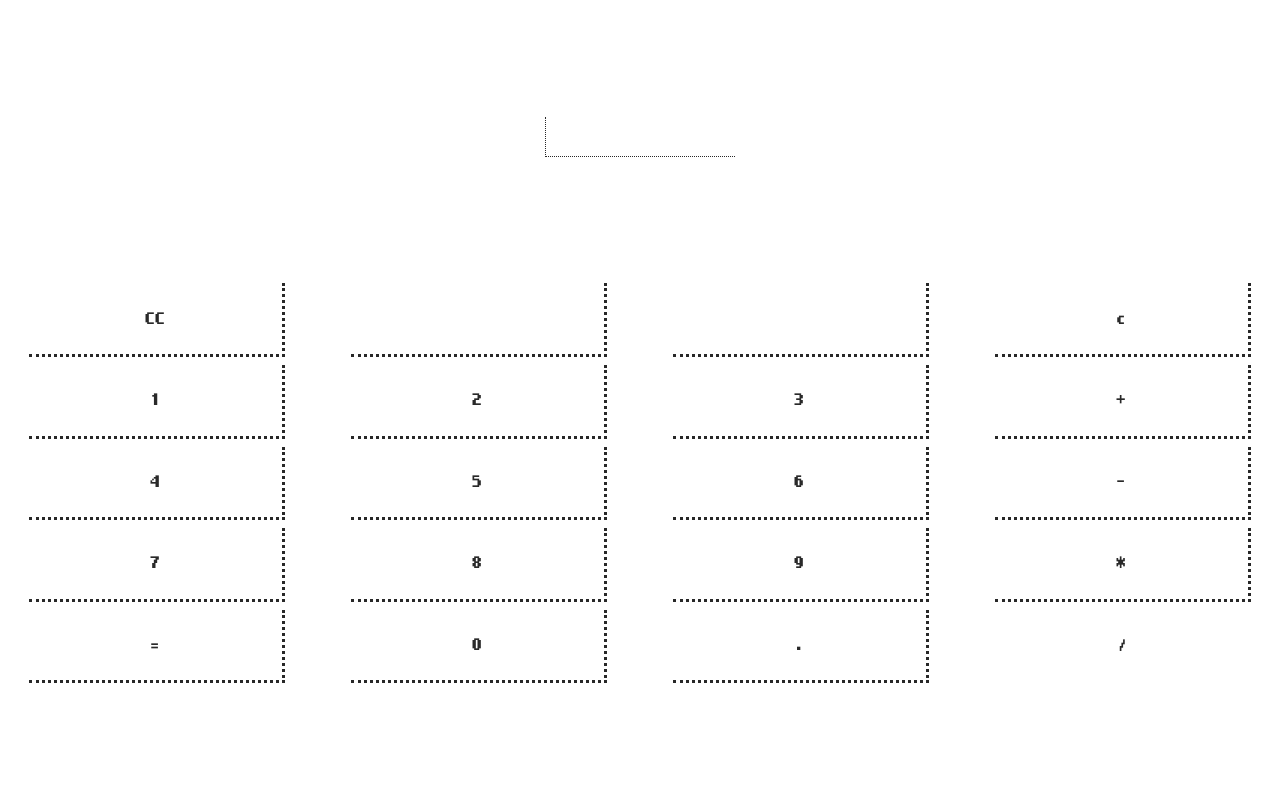
Scenario: Calculator › evaluates the expression when = is clicked
Click the button "1": (157,402) [29, 365, 285, 438]
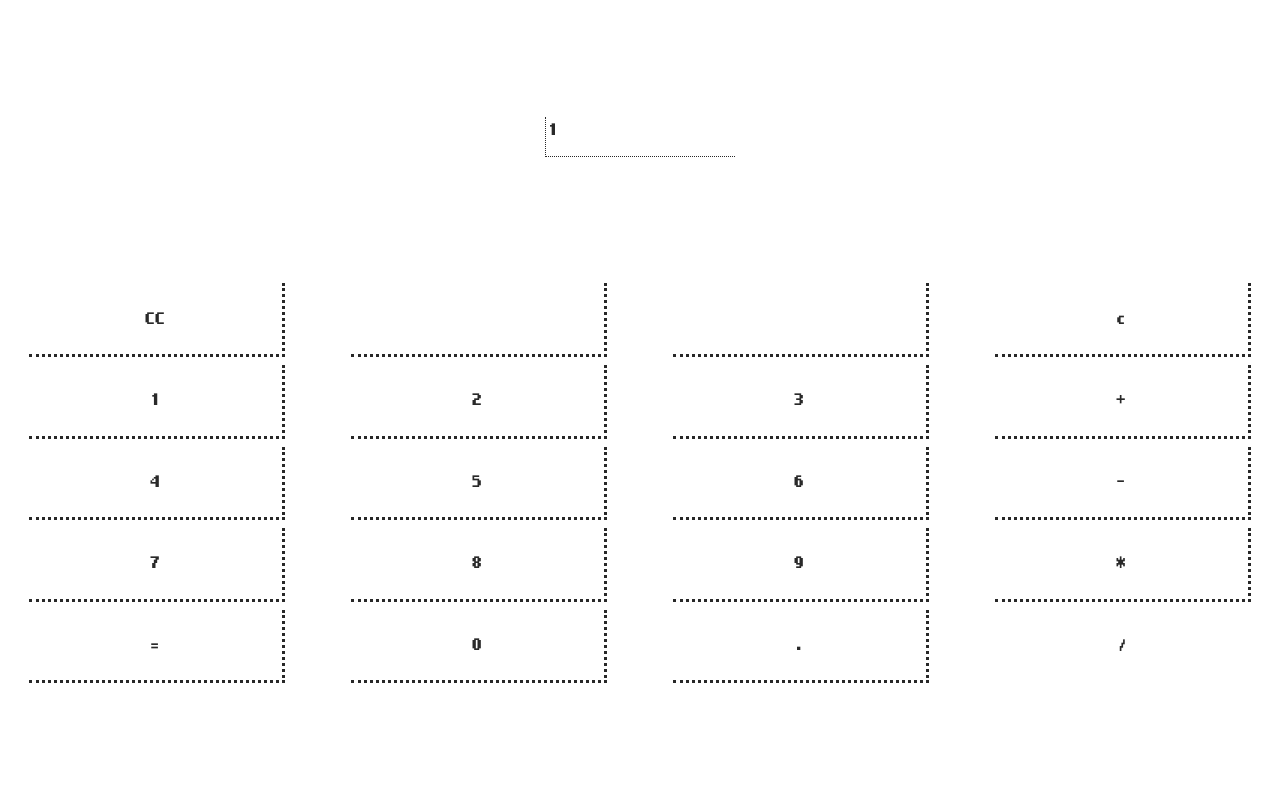
Click the button "+": (1123,402) [995, 365, 1251, 438]
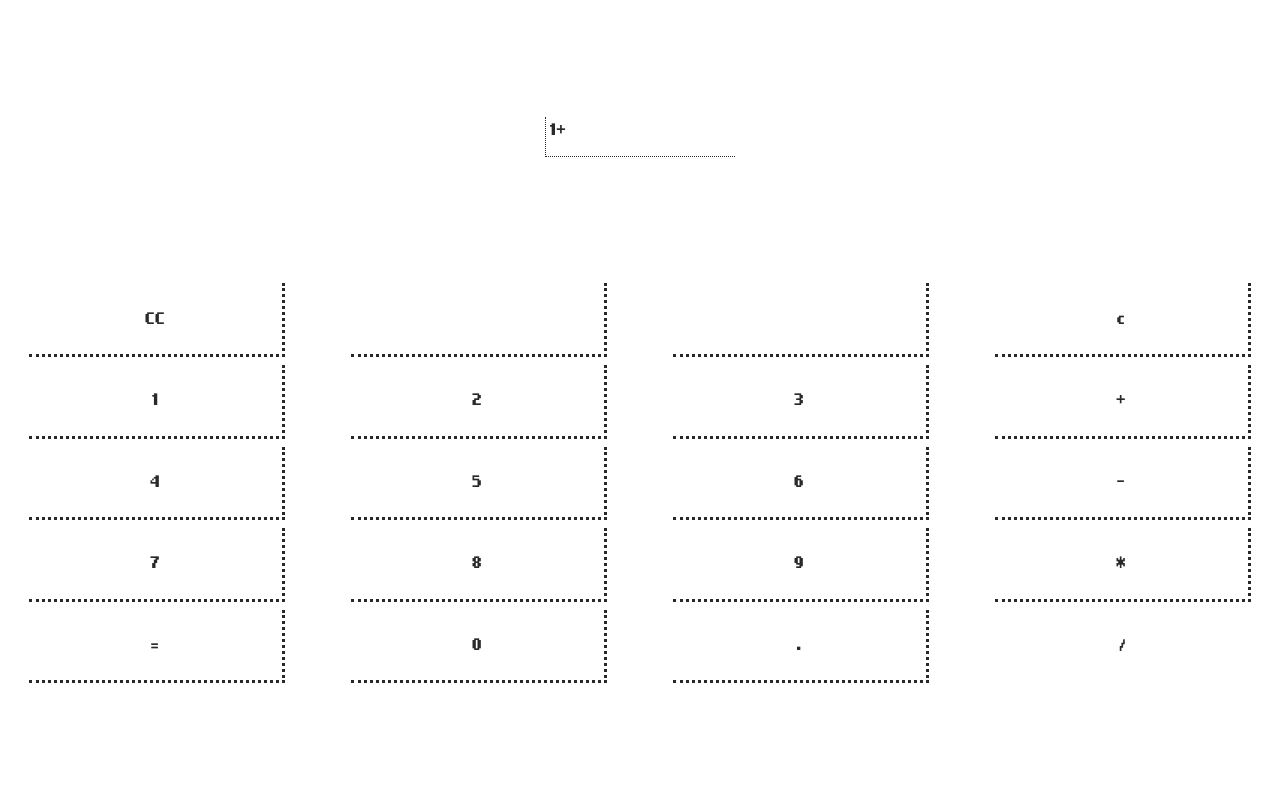
Click the button "2": (479,402) [351, 365, 607, 438]
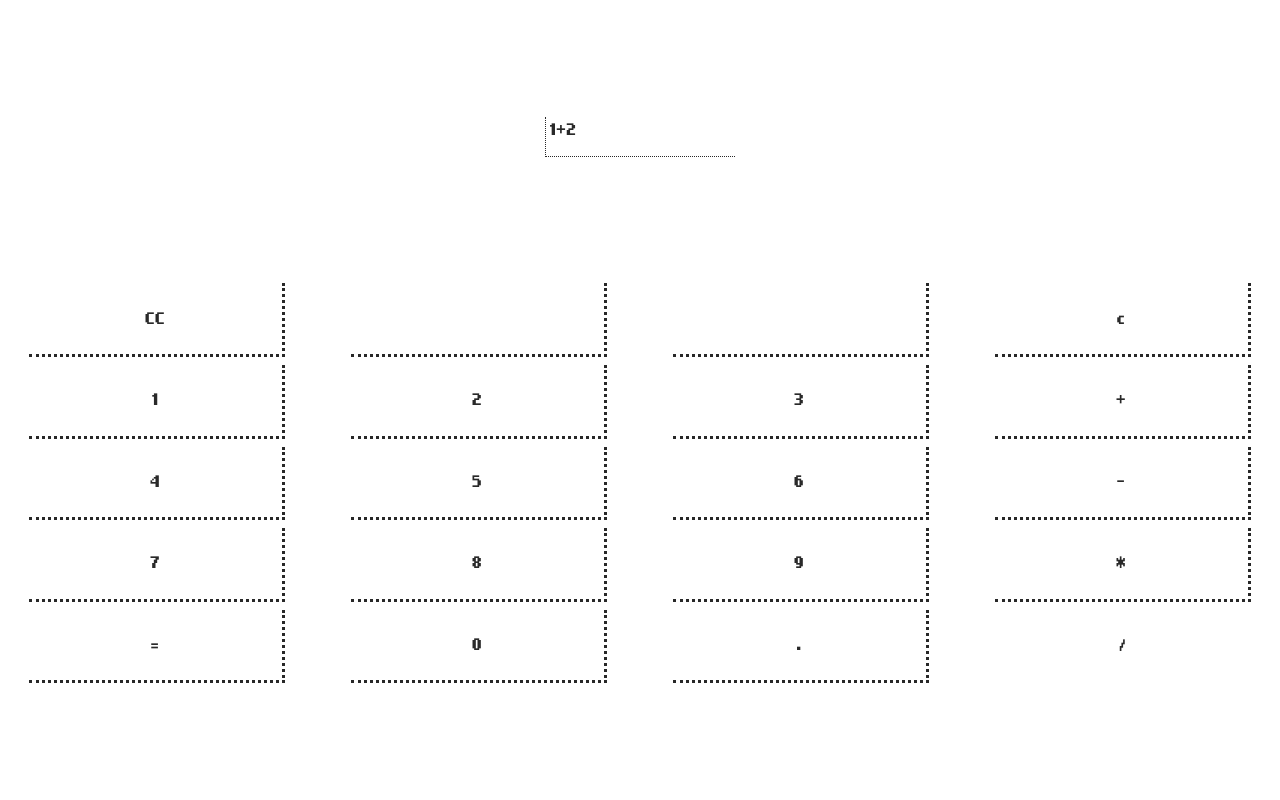
Click the button "=": (157,646) [29, 610, 285, 683]
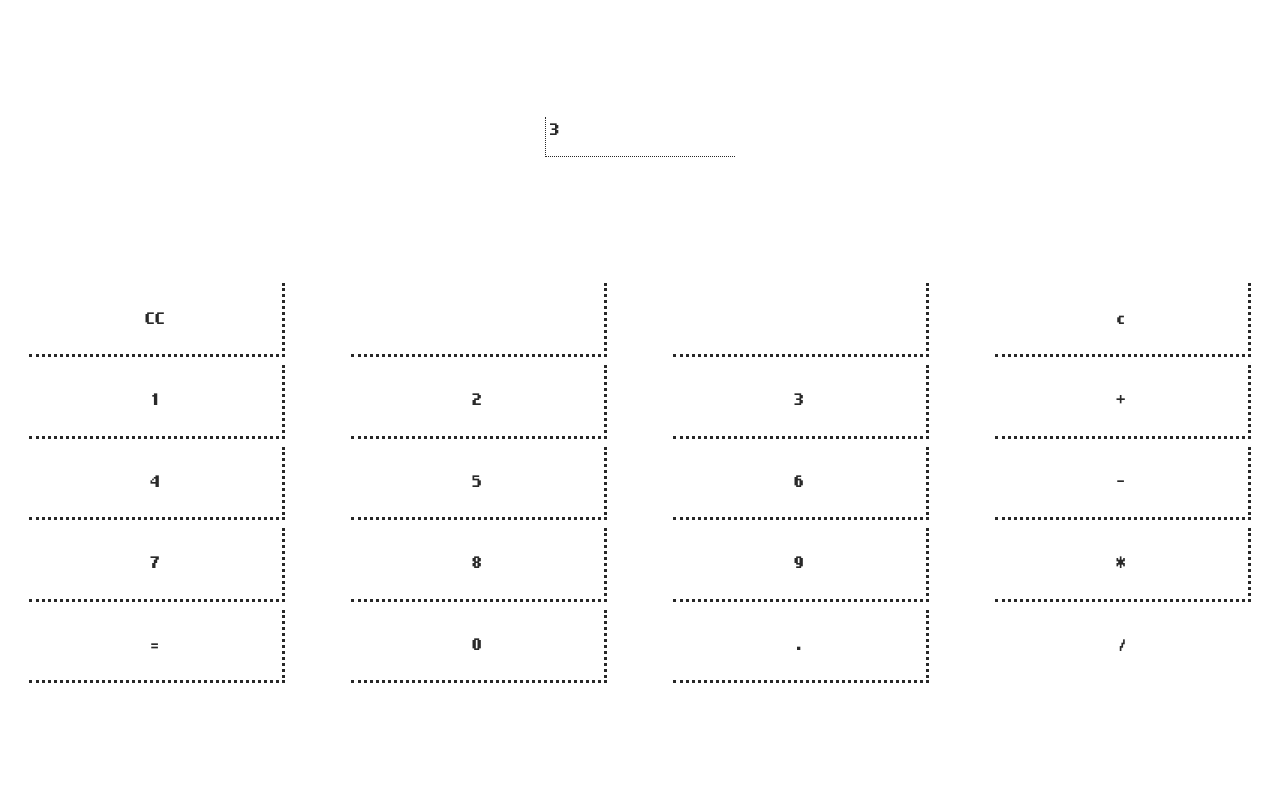
Expected: the text box holds "3", [545, 117, 735, 157]
